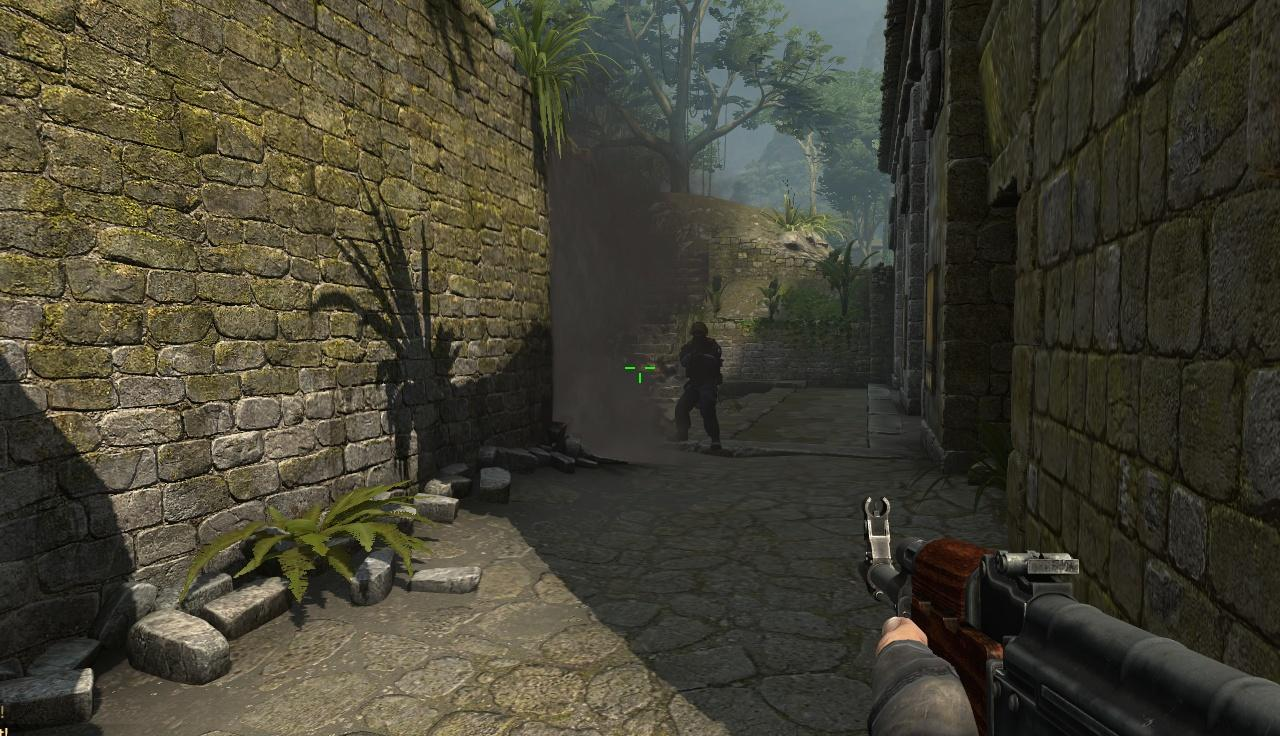ct: (678, 322, 725, 455)
cthead: (691, 320, 710, 342)
rifle: (867, 502, 1280, 736)
